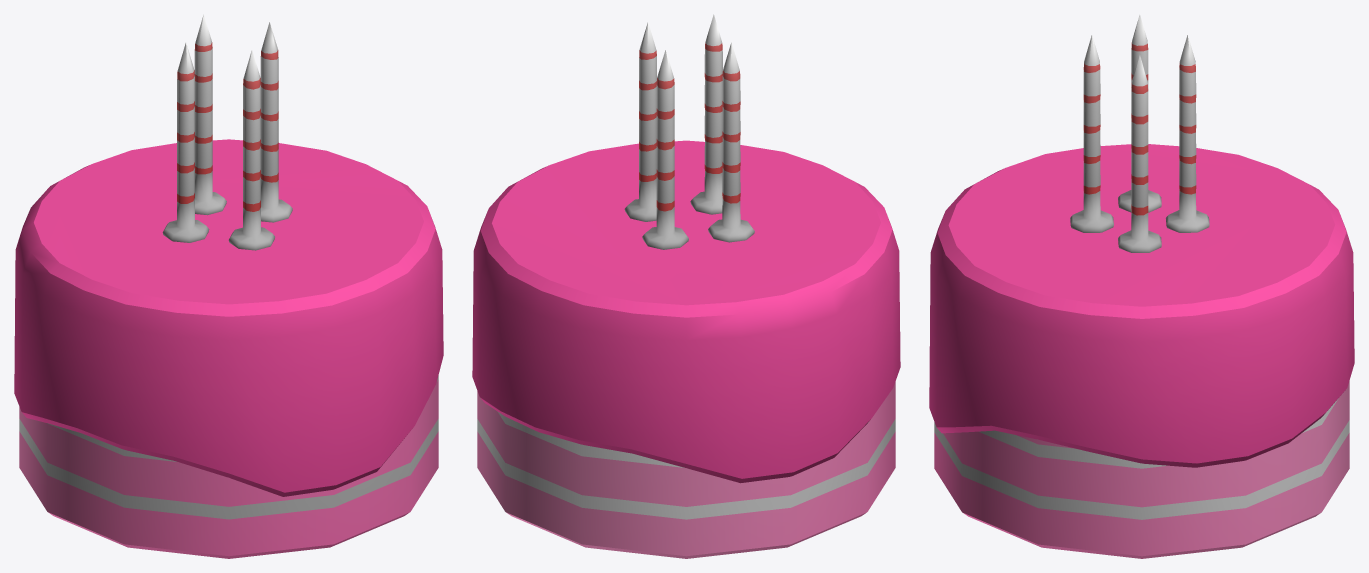
The model's file is Cake_2.fbx.
3 renders of one model, left to right at view 1: azimuth 30°, elevation 25°; view 2: azimuth 150°, elevation 25°; view 3: azimuth 270°, elevation 25°, orthographic.
Visible parts, largest first — view 1: Cake_2; view 2: Cake_2; view 3: Cake_2.
Part boxes in pixels (x1=…): Cake_2: x1=14, y1=14, x2=443, y2=558; Cake_2: x1=472, y1=14, x2=900, y2=558; Cake_2: x1=929, y1=14, x2=1354, y2=558.
Size of the model in its own units: 0.2667 by 0.3037 by 0.2667.
